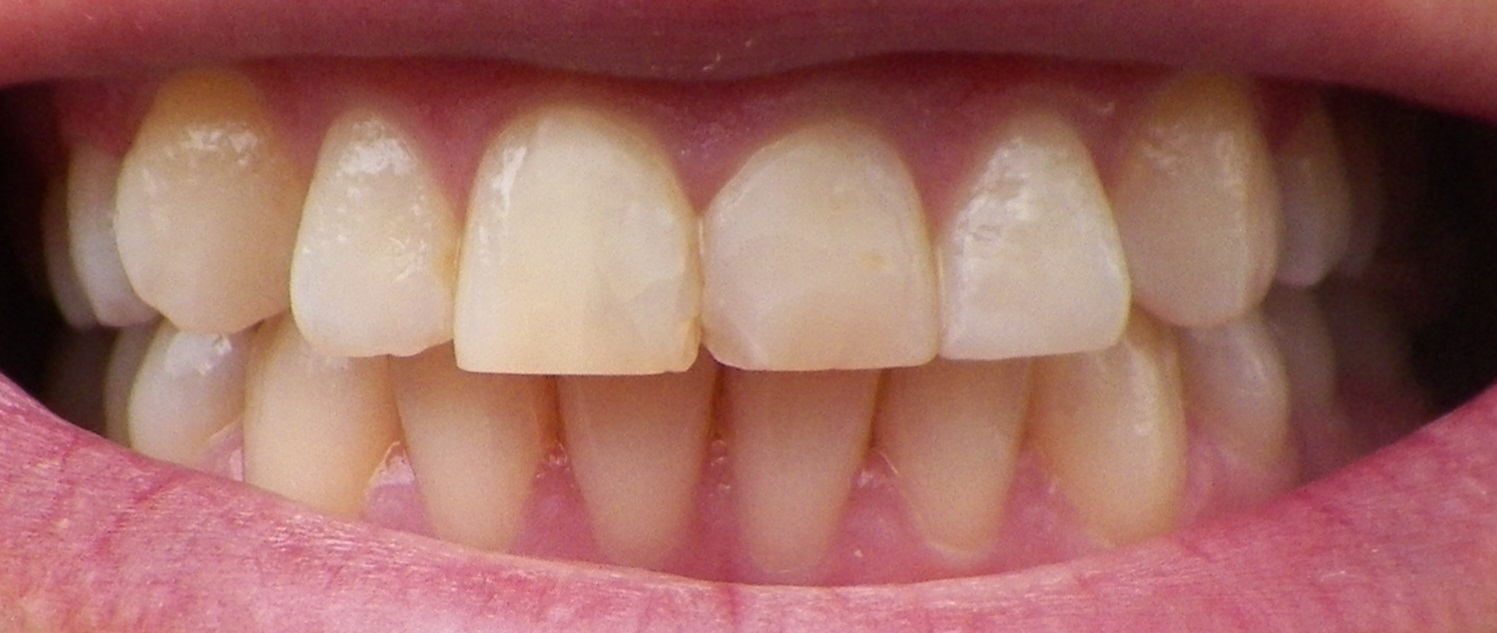boca: (38, 67, 1454, 558)
